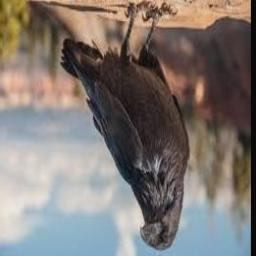Crow: (61, 2, 189, 251)
